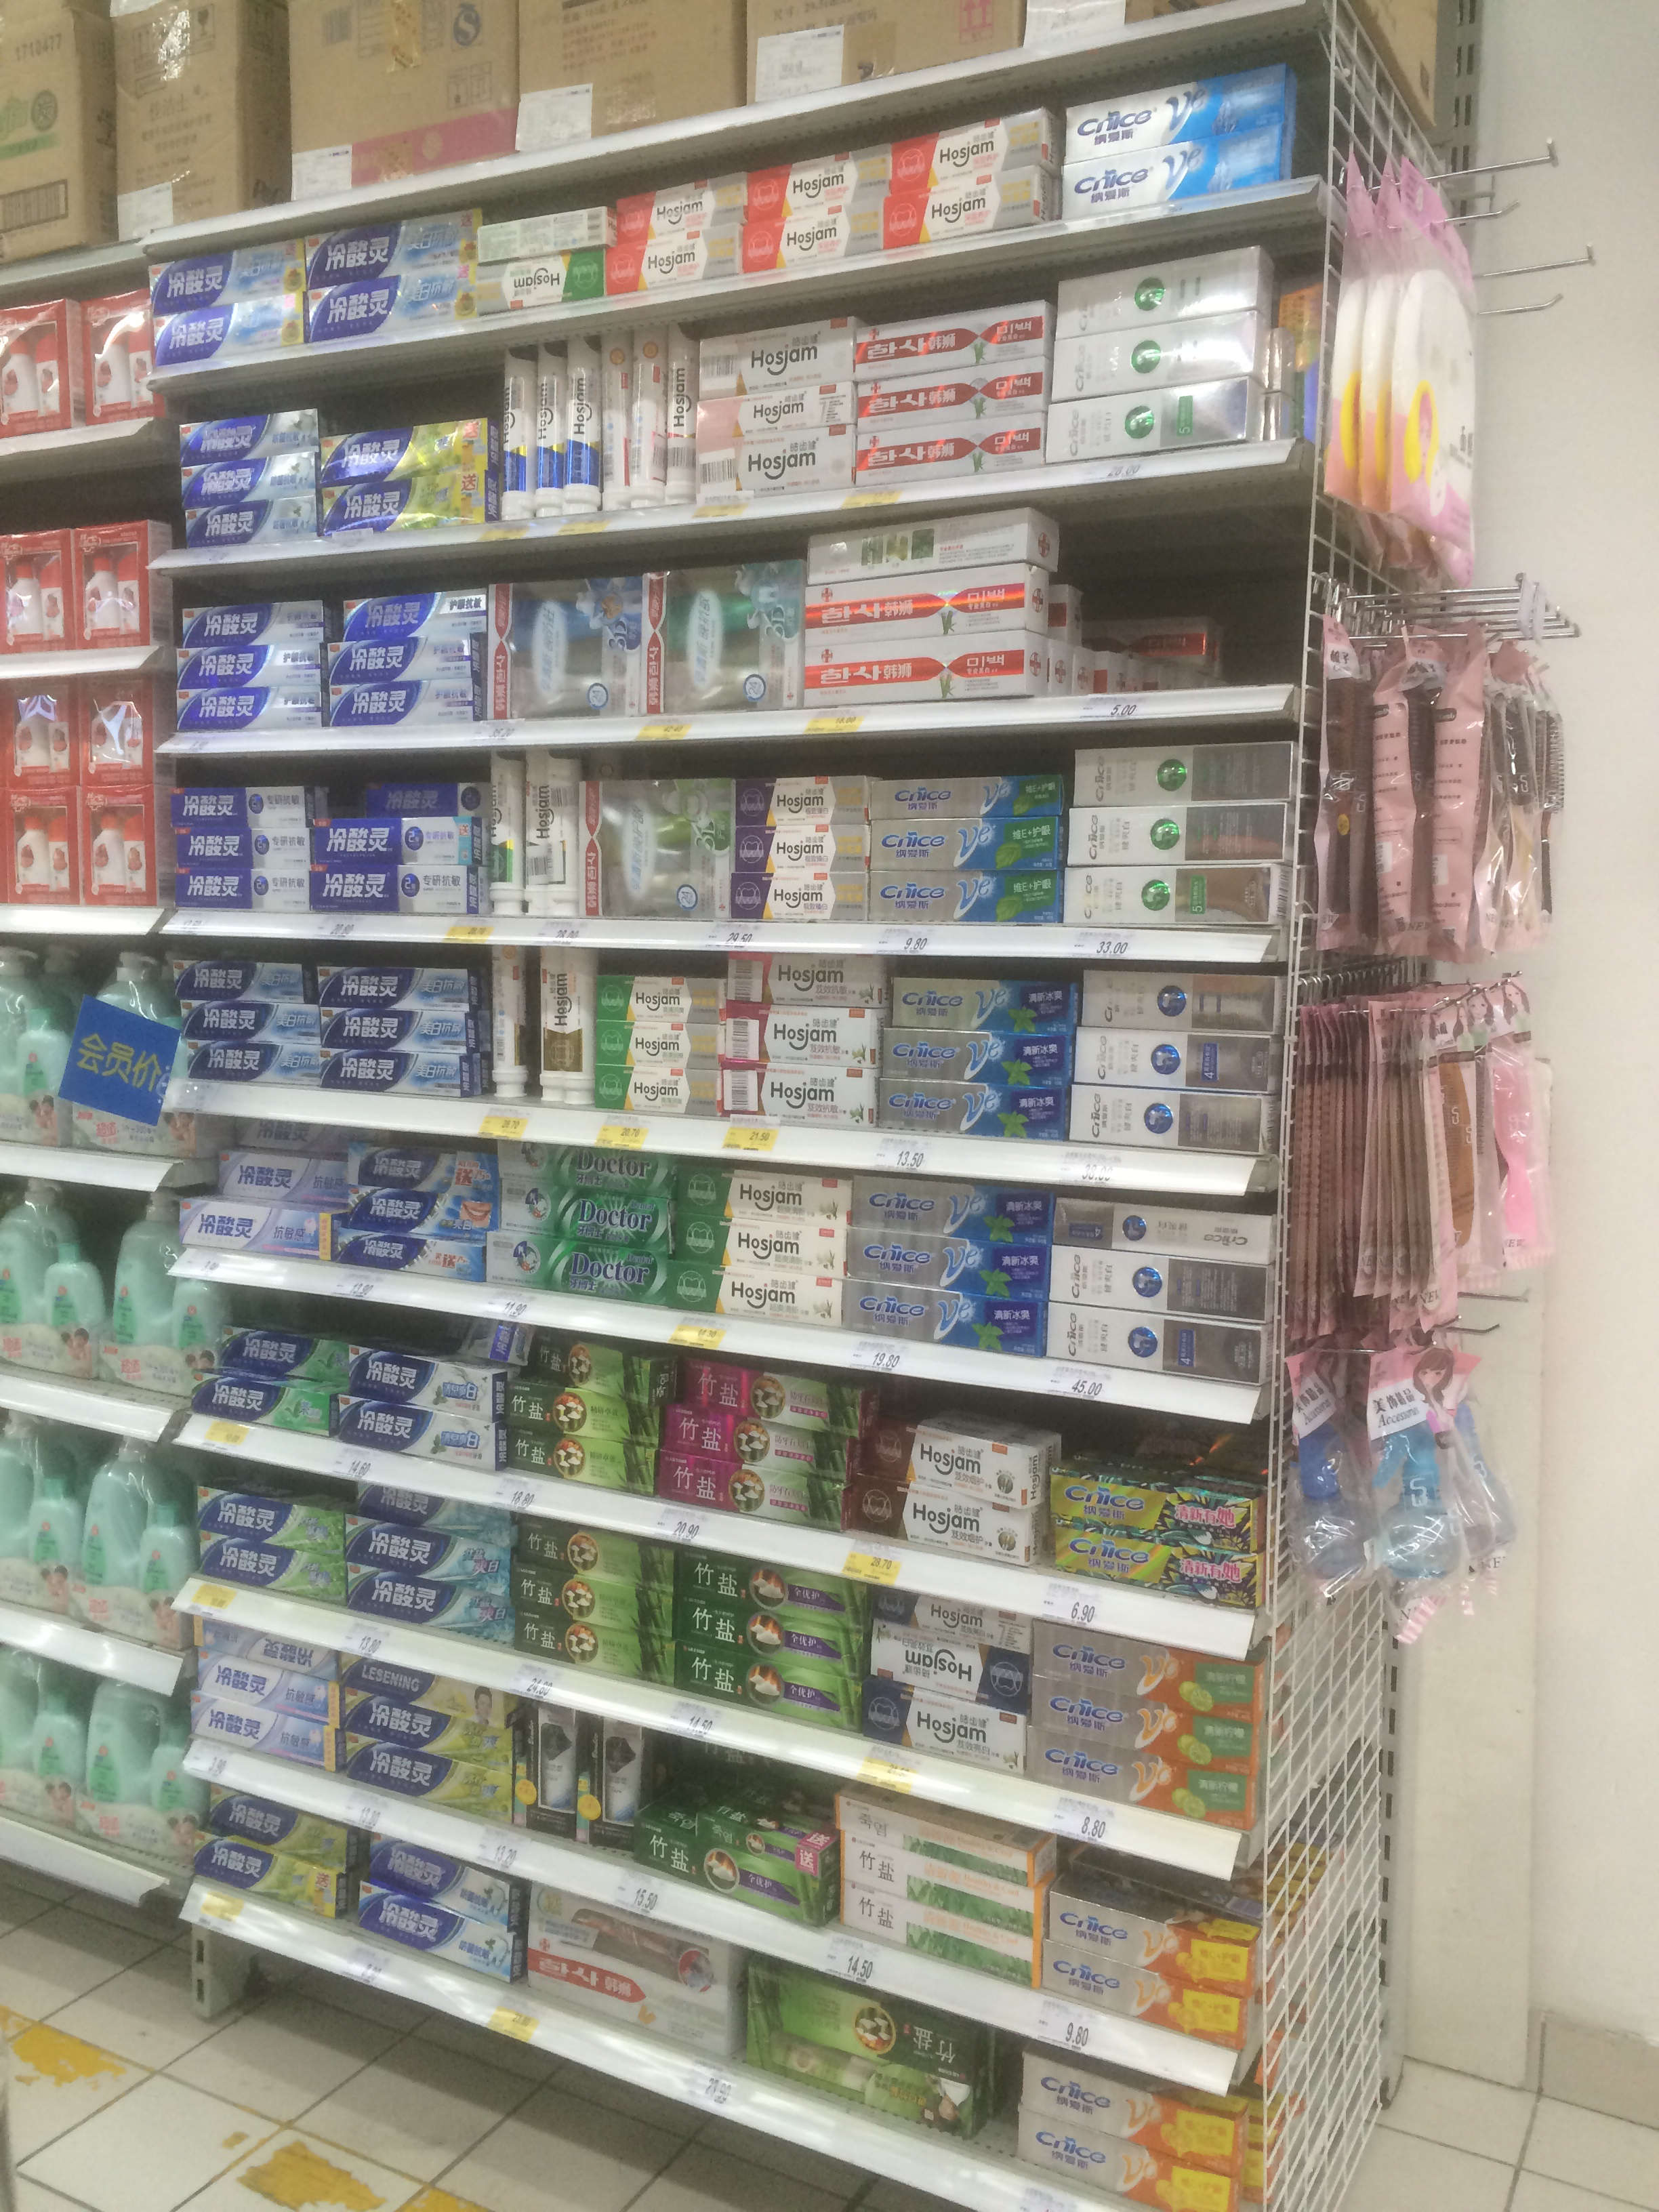Misplacement: (638, 1726, 845, 1937)
Out-of-stock: (1061, 510, 1312, 730)
